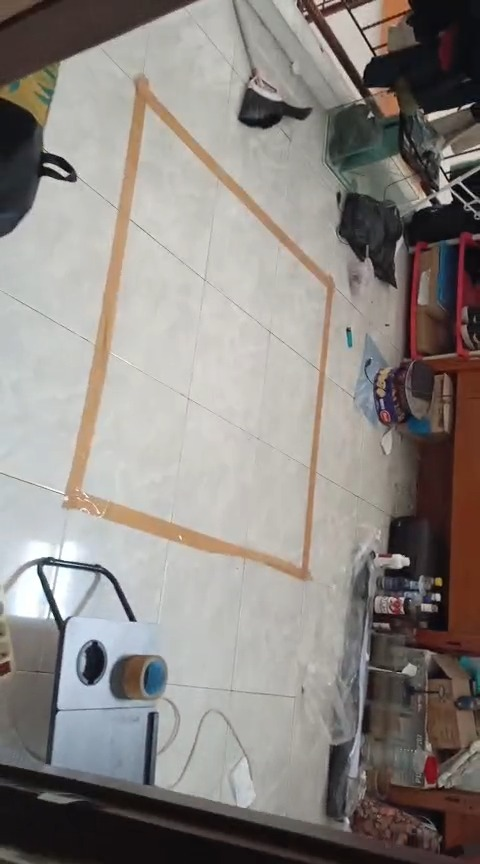floor marking: (64, 77, 331, 509), (97, 318, 329, 578)
